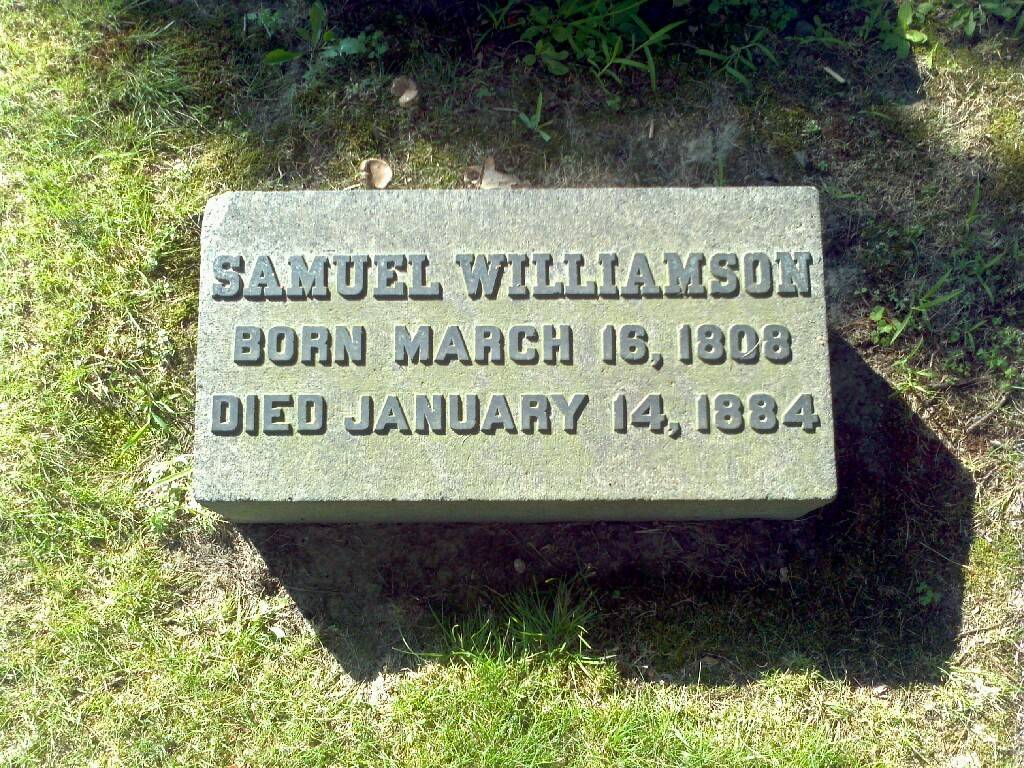flat: (187, 185, 840, 527)
